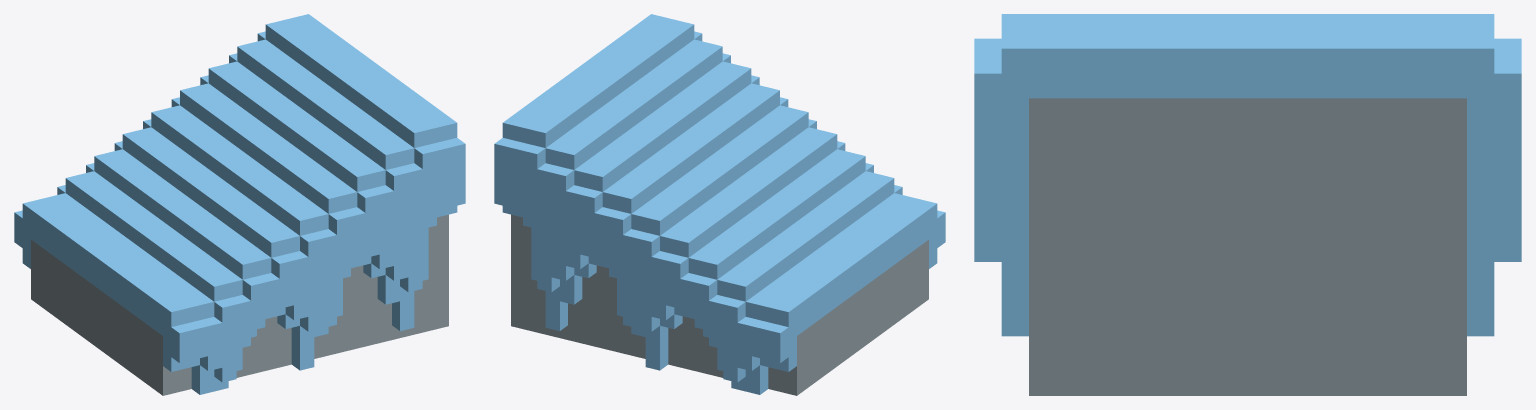
File: Floors-23.obj
3 views of the same model, side by side, from view 1: azimuth 30°, elevation 25°; view 2: azimuth 150°, elevation 25°; view 3: azimuth 270°, elevation 25° (orthographic). The views are drawn at different scales.
Bounding box in the file's own units: 2 × 1.4 × 2.
1 material, 1 textured.
